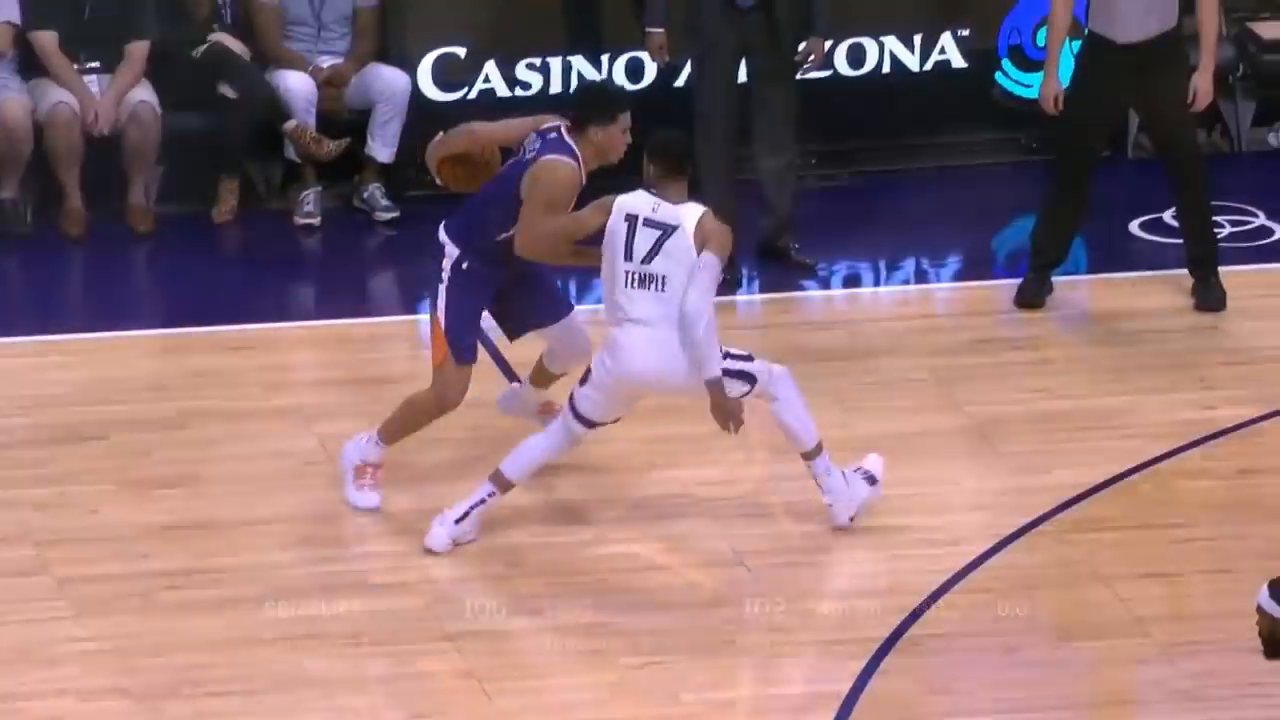ball: (435, 131, 503, 193)
